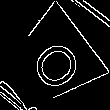O_SW: (16, 31, 80, 97)
